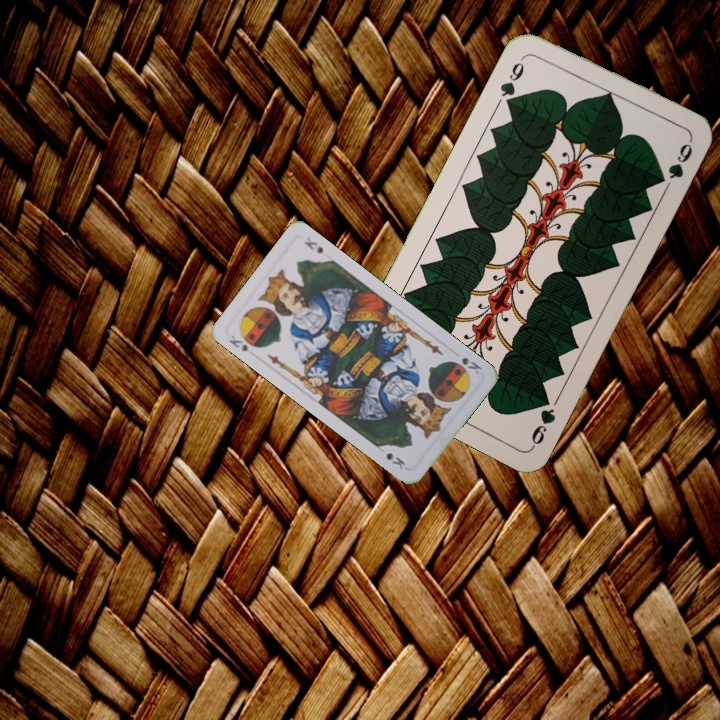G9: (496, 51, 529, 110), (527, 390, 558, 450)
SK: (225, 330, 251, 355), (458, 353, 484, 377)
